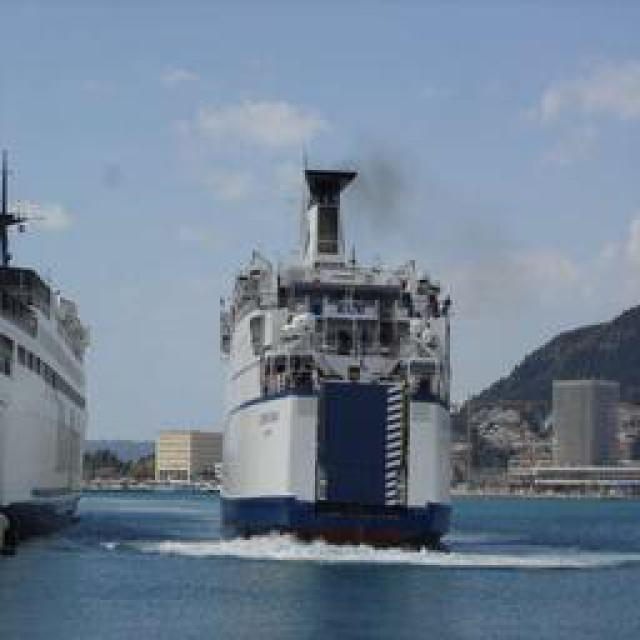Ship: (218, 143, 463, 548)
